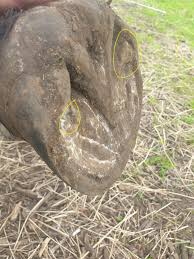horsesole: (46, 11, 143, 196)
